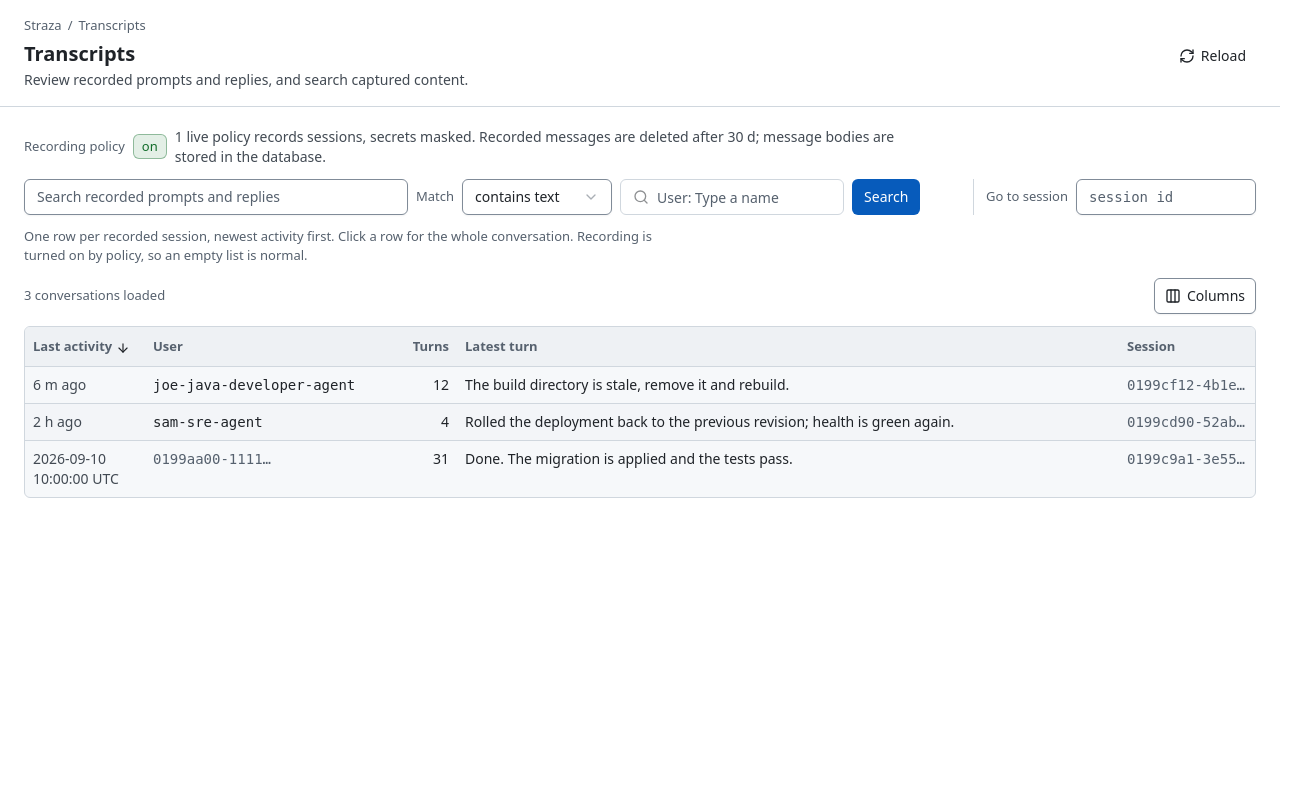
Test: the transcripts screen › changes the hint with the match picked
Type "registry" into the field named "Search transcripts" at {"x": 216, "y": 196}, box [24,178,408,214]
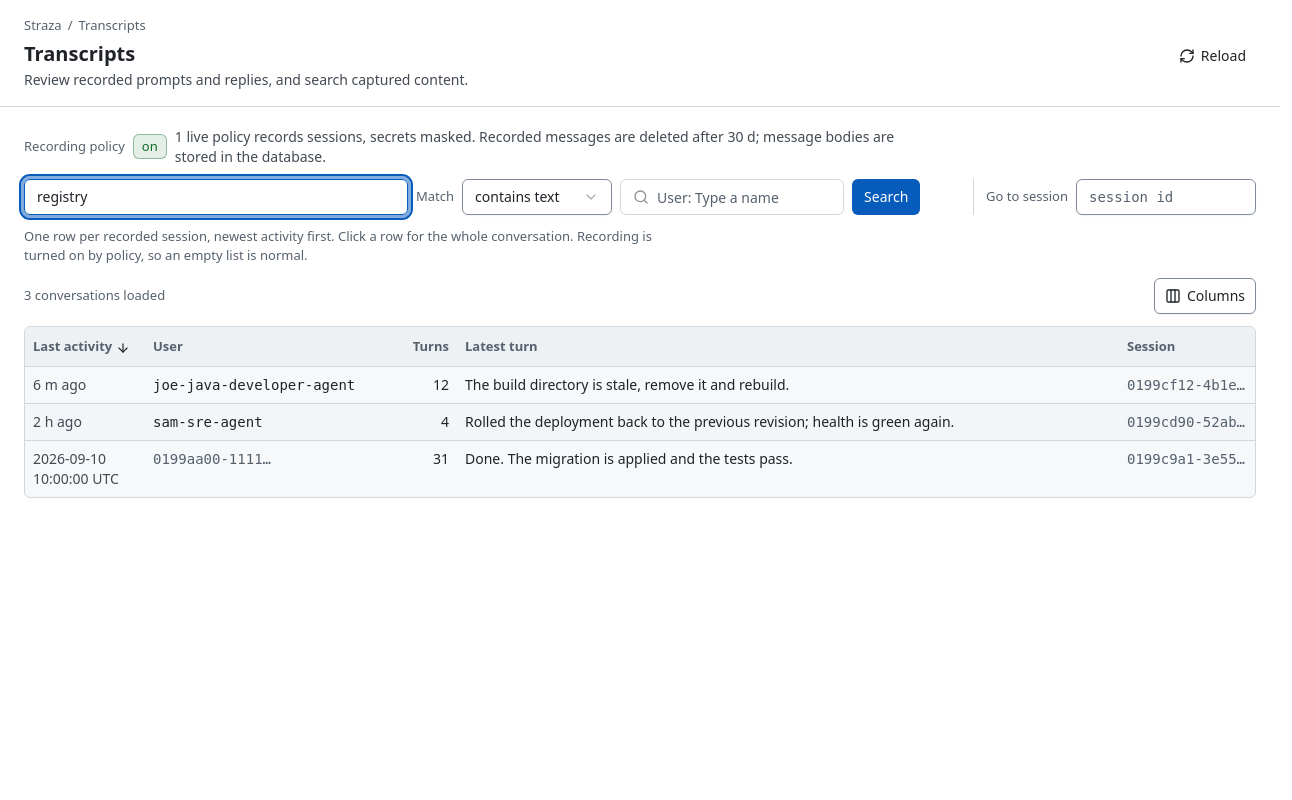
Click the button "Search" at {"x": 886, "y": 196}, box [852,178,920,214]
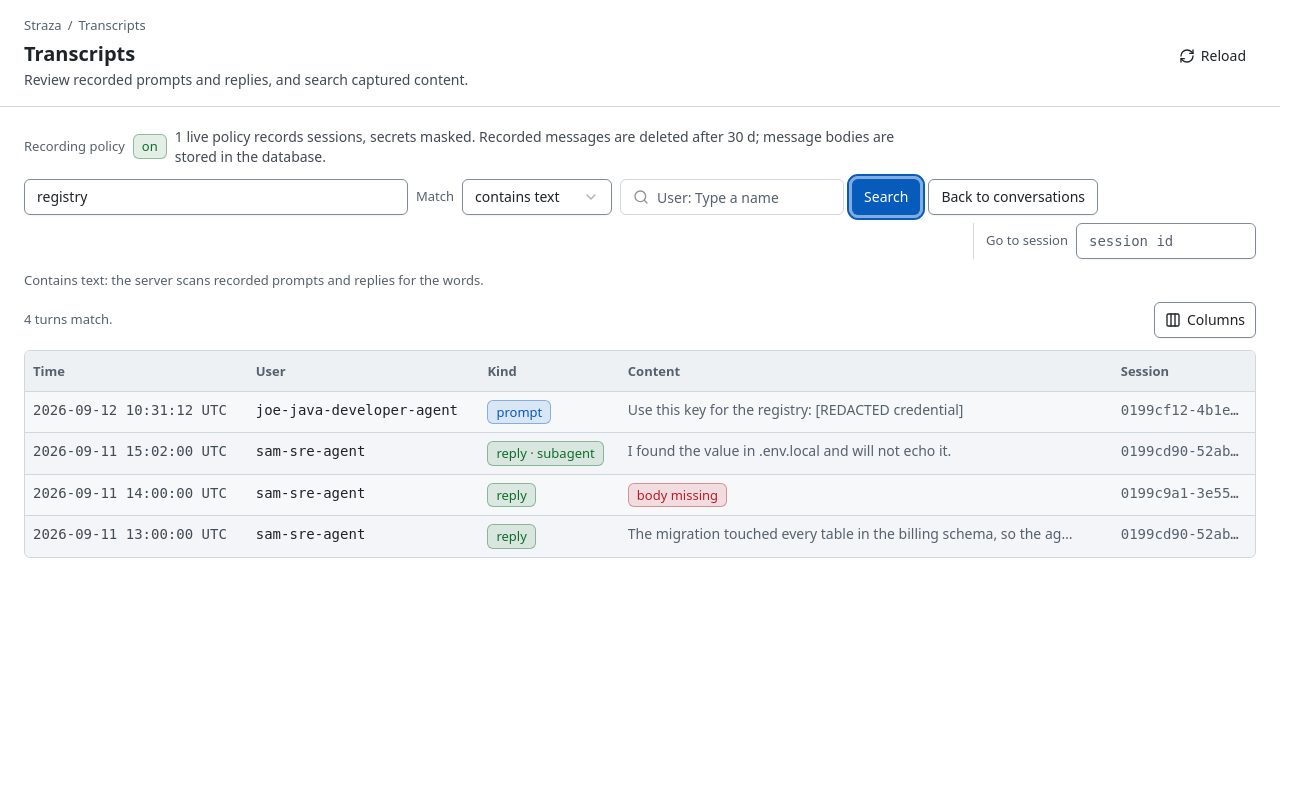
Expected: the text "Contains text: the server scans recorded prompts and replies for the words." is shown, [24,270,484,288]
Click the dropdown named "Match" at {"x": 537, "y": 196}, box [462,178,612,214]
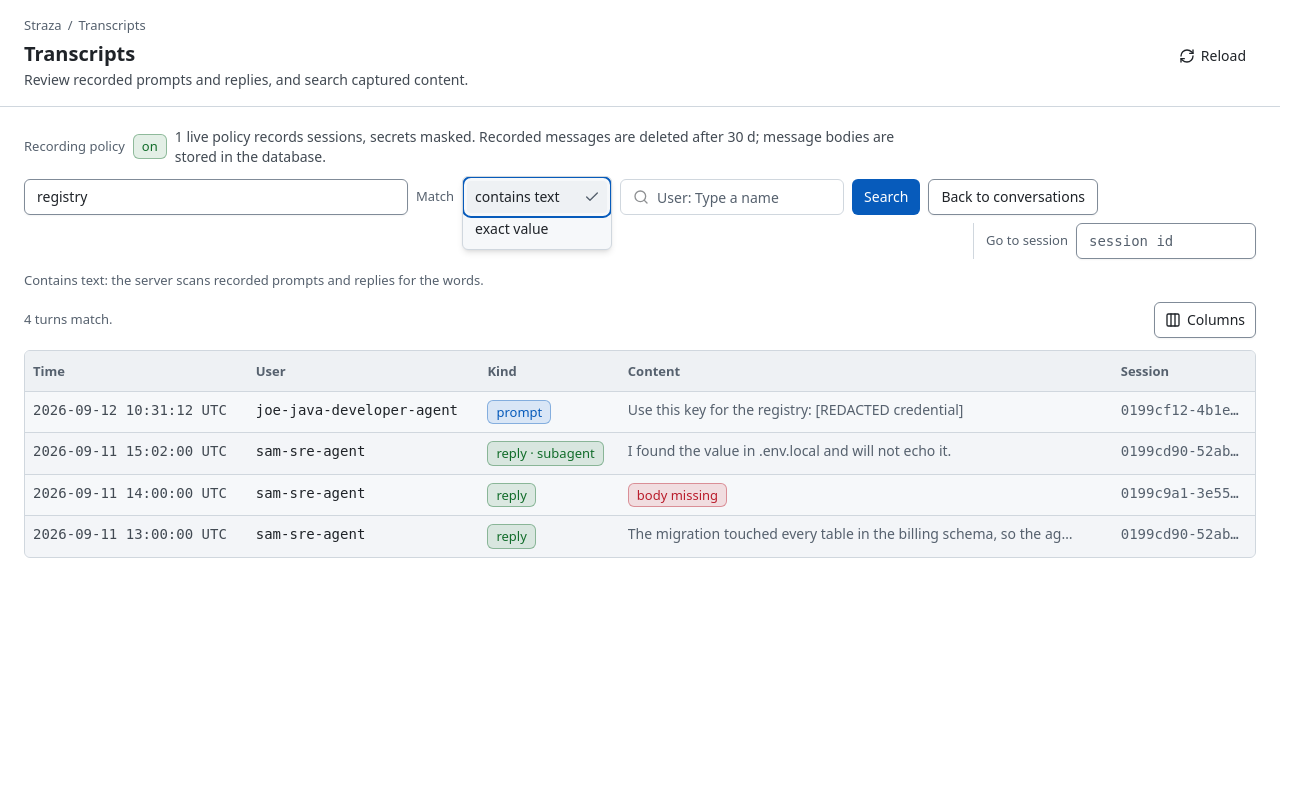
Click the option "exact value" at {"x": 512, "y": 228}, box [475,218,548,238]
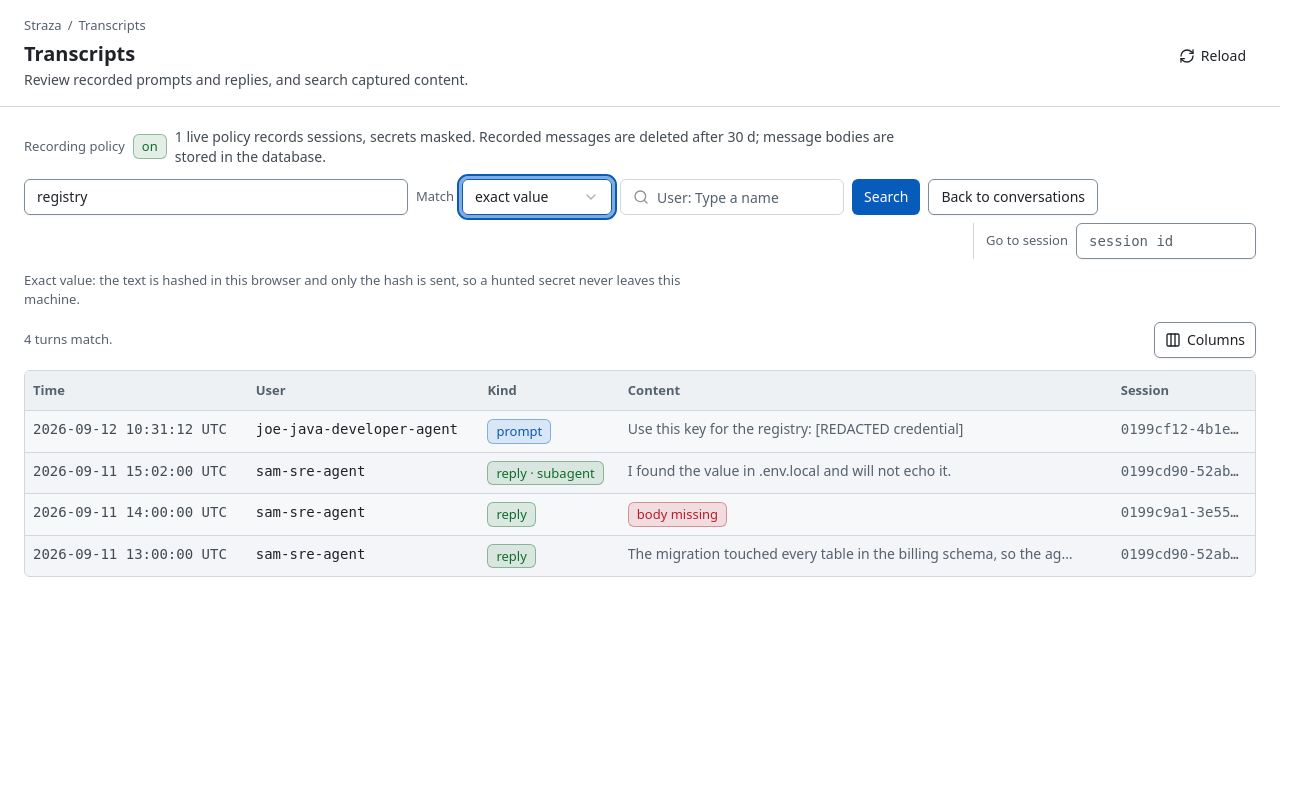
Expected: the text "Exact value: the text is hashed in this browser and only the hash is sent, so a hunted secret never leaves this machine." is shown, [24,270,680,308]
